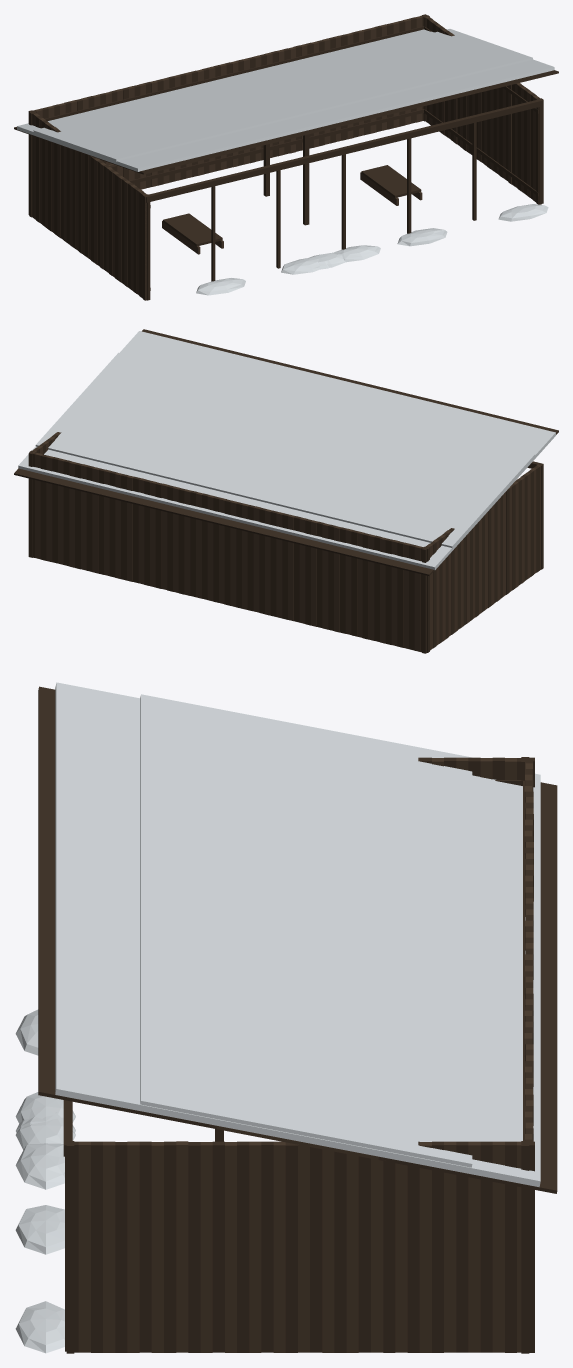
Rendered from dragonspine-sled-shed.glb.
The picture shows the model from 3 angles, top to bottom: view 1: azimuth 30°, elevation 25°; view 2: azimuth 150°, elevation 25°; view 3: azimuth 270°, elevation 25°; orthographic projection. The views are drawn at different scales.
Visible parts, largest first — view 1: Body_Snow, Body_WoodDark, Body_Wood; view 2: Body_Snow, Body_WoodDark, Body_Wood; view 3: Body_Snow, Body_WoodDark, Body_Wood.
Part boxes in pixels (x1,y1,x2,y2): Body_Snow: (17, 29, 554, 295); Body_WoodDark: (14, 14, 558, 300); Body_Wood: (33, 16, 539, 298); Body_Snow: (18, 331, 555, 570); Body_WoodDark: (14, 329, 558, 653); Body_Wood: (32, 432, 540, 651); Body_Snow: (15, 682, 540, 1353); Body_WoodDark: (38, 686, 557, 1353); Body_Wood: (78, 757, 533, 1352).
Bounding box in the file's own units: 16 × 5 × 9.
